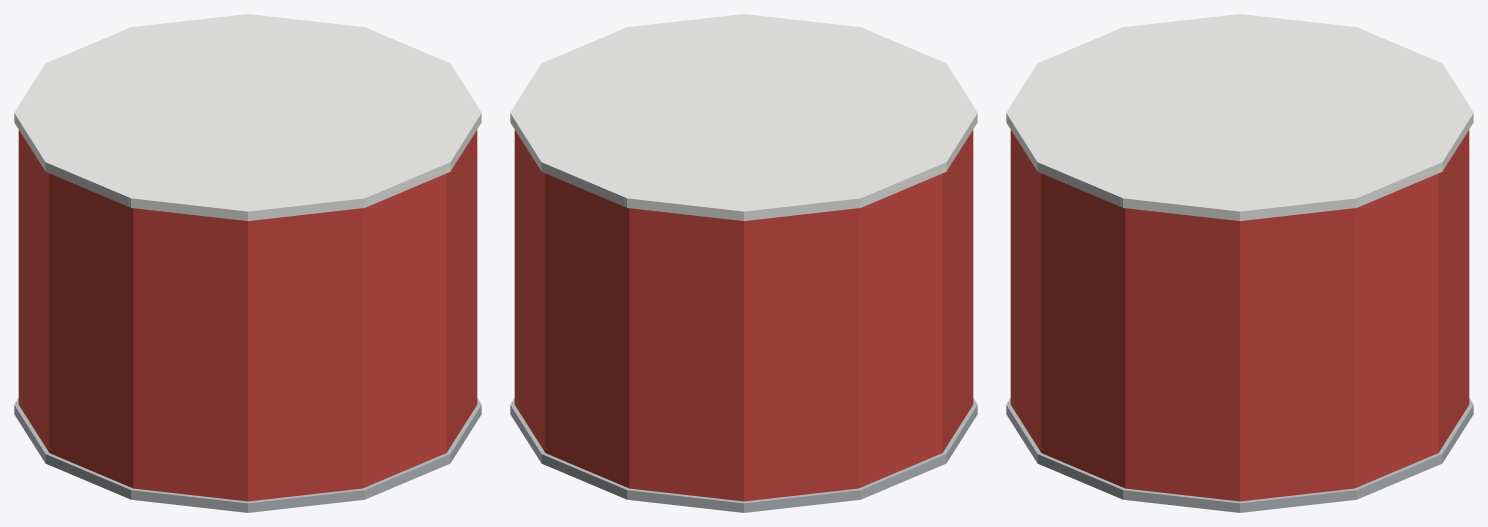
The model's file is sm_product_drum.glb.
3 renders of one model, left to right at view 1: azimuth 30°, elevation 25°; view 2: azimuth 150°, elevation 25°; view 3: azimuth 270°, elevation 25°, orthographic.
Visible parts, largest first — view 1: drum_0, drum_1, drum_2; view 2: drum_0, drum_1, drum_2; view 3: drum_0, drum_1, drum_2.
Part boxes in pixels (x1,y1,x2,y2): drum_0: (18,130,477,501); drum_1: (14,14,481,220); drum_2: (14,398,481,512); drum_0: (514,130,973,501); drum_1: (510,14,977,220); drum_2: (510,398,977,512); drum_0: (1010,130,1469,501); drum_1: (1006,14,1473,220); drum_2: (1006,398,1473,512).
Size of what is drawn, in the model's own units: 0.53 by 0.377 by 0.53.
